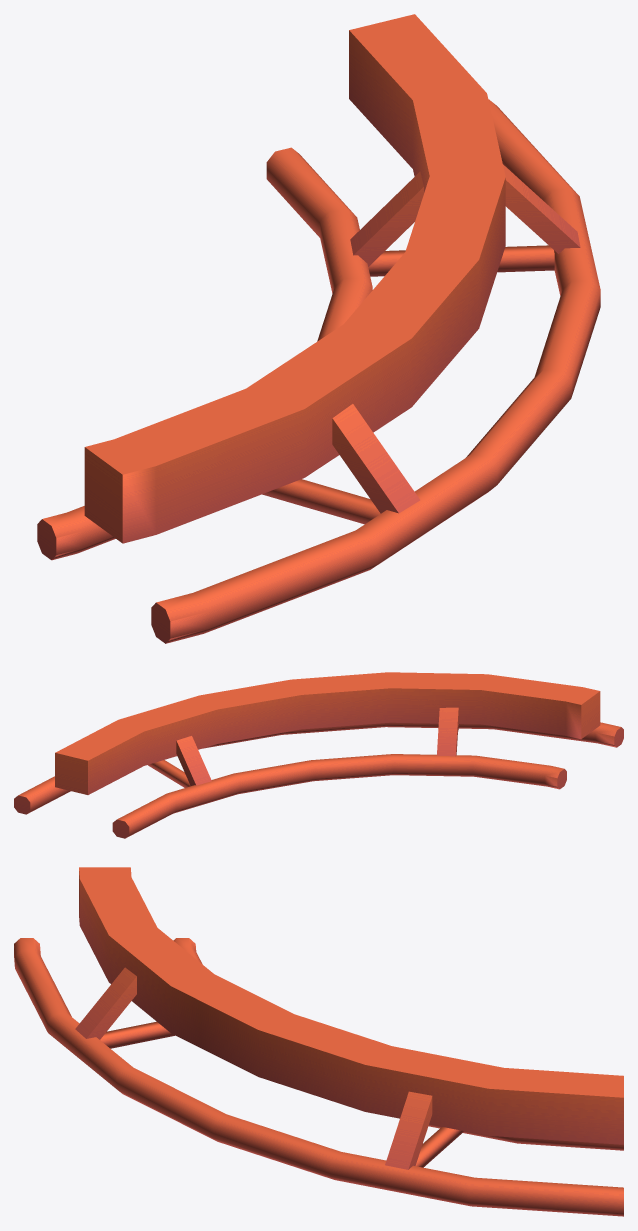
Rendered from coaster-hanging-corner-small.glb.
The picture shows the model from 3 angles, top to bottom: view 1: azimuth 30°, elevation 25°; view 2: azimuth 150°, elevation 25°; view 3: azimuth 270°, elevation 25°; orthographic projection. The views are drawn at different scales.
Visible parts, largest first — view 1: coaster-hanging-corner-small; view 2: coaster-hanging-corner-small; view 3: coaster-hanging-corner-small.
Part boxes in pixels (bbox=[...]): coaster-hanging-corner-small: bbox=[37, 14, 600, 643]; coaster-hanging-corner-small: bbox=[14, 672, 623, 838]; coaster-hanging-corner-small: bbox=[14, 867, 623, 1216].
Size of the model in its own units: 7.05 by 1.2 by 7.05.
Materials: 1 (1 with a texture image).
